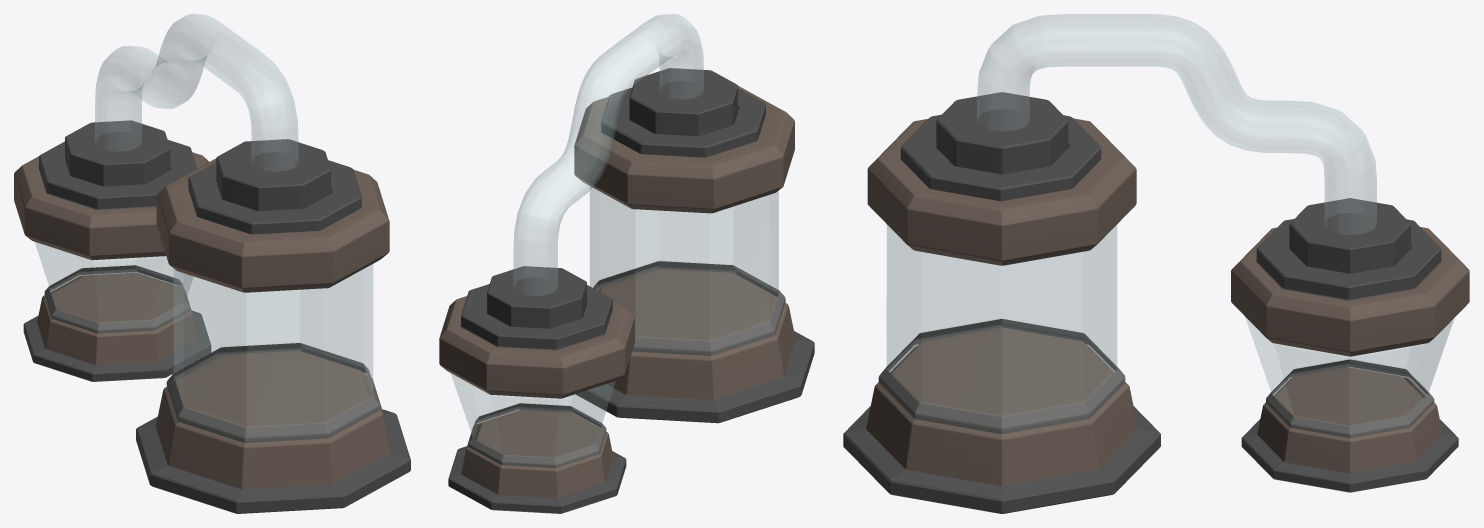
The model's file is LegeElixertank.fbx.
3 views of the same model, side by side, from view 1: azimuth 30°, elevation 25°; view 2: azimuth 150°, elevation 25°; view 3: azimuth 270°, elevation 25° (orthographic). The views are drawn at different scales.
Visible parts, largest first — view 1: polySurface3310; view 2: polySurface3310; view 3: polySurface3310.
Part boxes in pixels (bbox=[...]): polySurface3310: bbox=[14, 14, 410, 513]; polySurface3310: bbox=[439, 14, 814, 513]; polySurface3310: bbox=[843, 14, 1469, 513].
Bounding box in the file's own units: 1.05 × 1.57 × 2.06.
